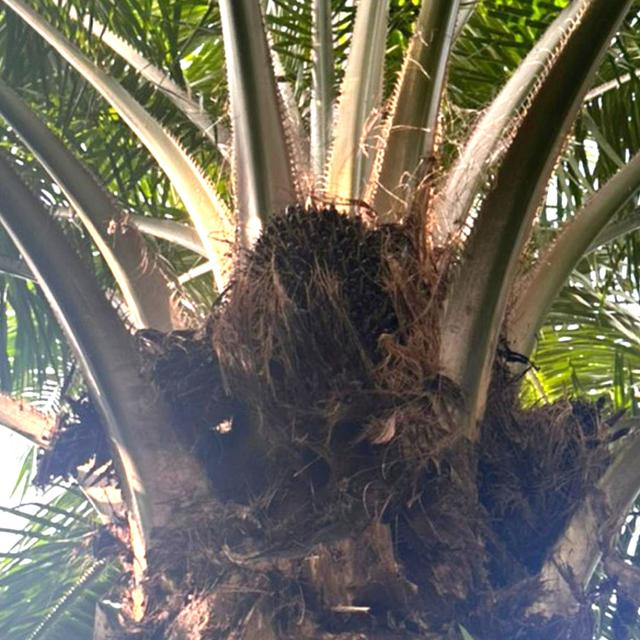almost: (213, 186, 437, 419)
